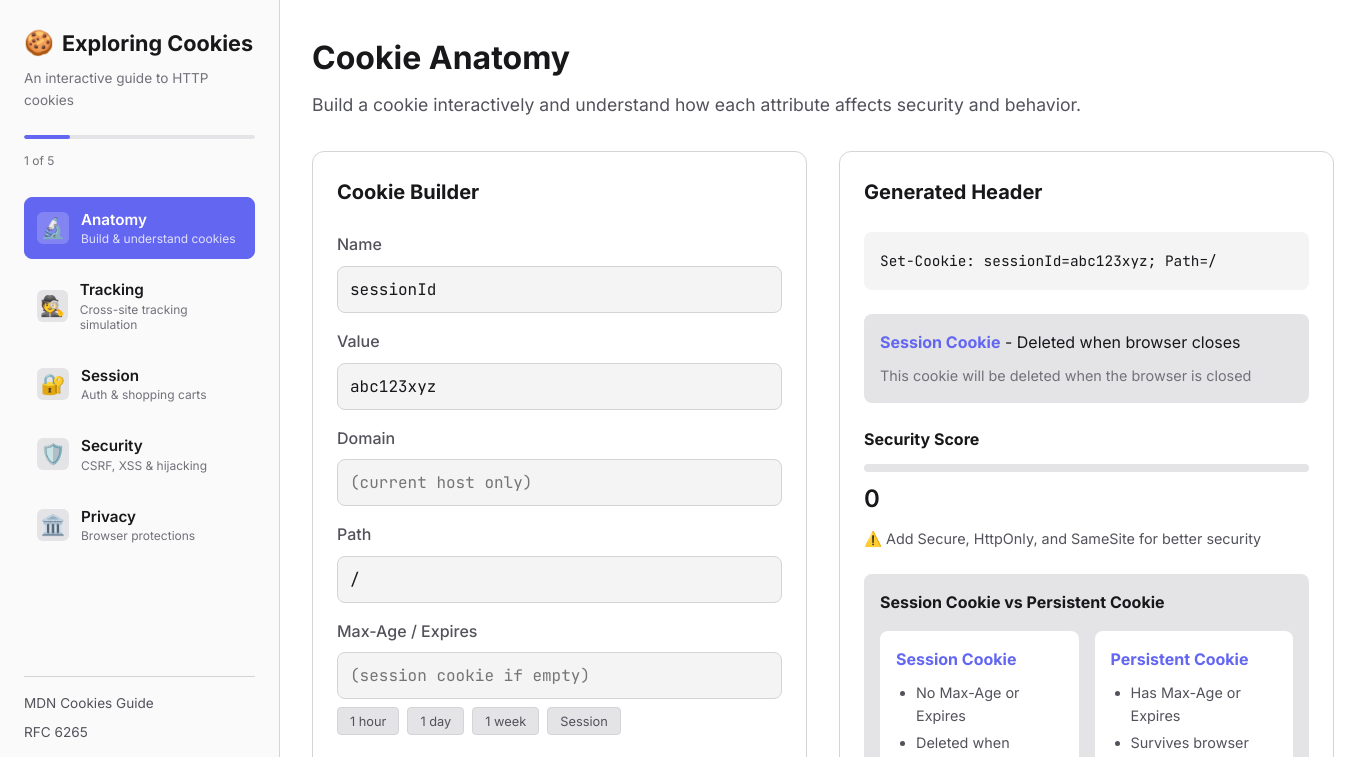
Test: App › can navigate to tracking section
This screenshot has width=1366, height=757.
Click the text "Tracking".
click(112, 290)  # box [80,280,144,300]
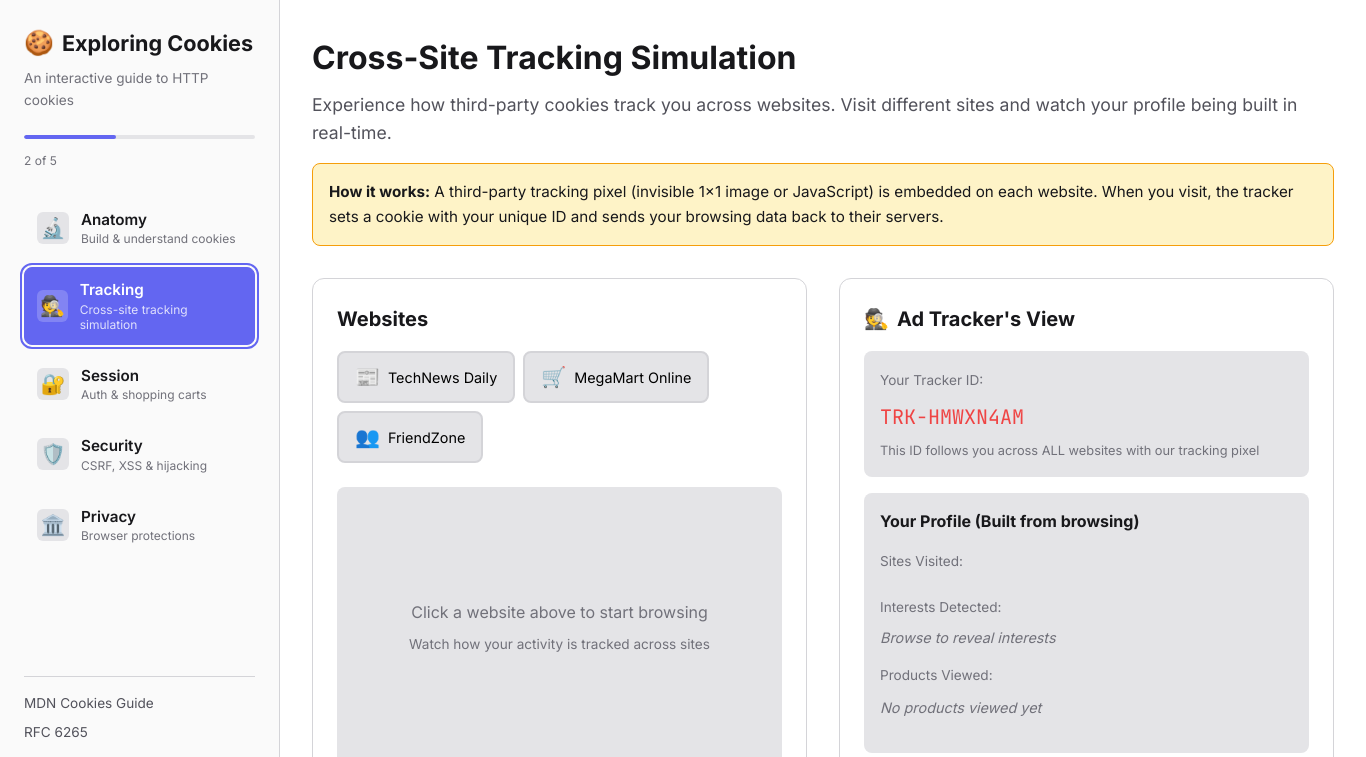
Result: the heading "Cross-Site Tracking Simulation" is shown at [312,38,796,77]
